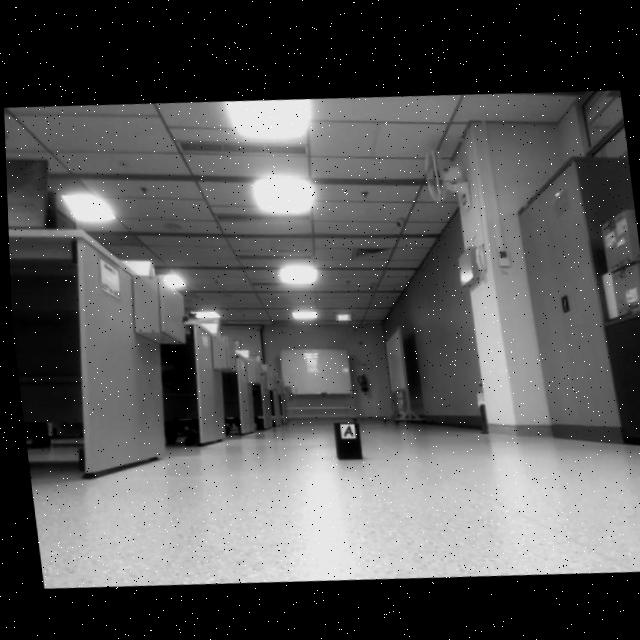A: (340, 421, 350, 433)
